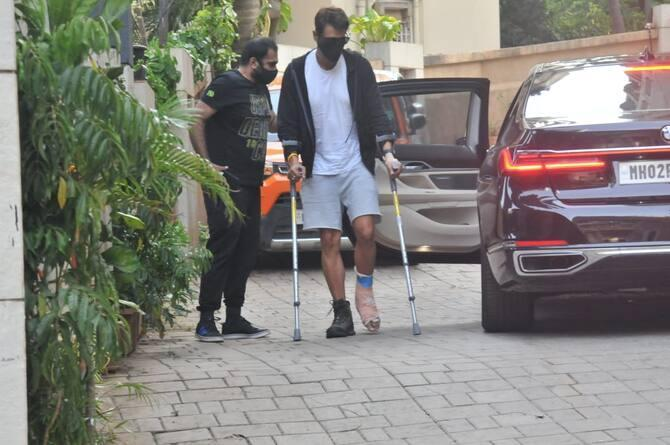crutches: (278, 8, 422, 342)
